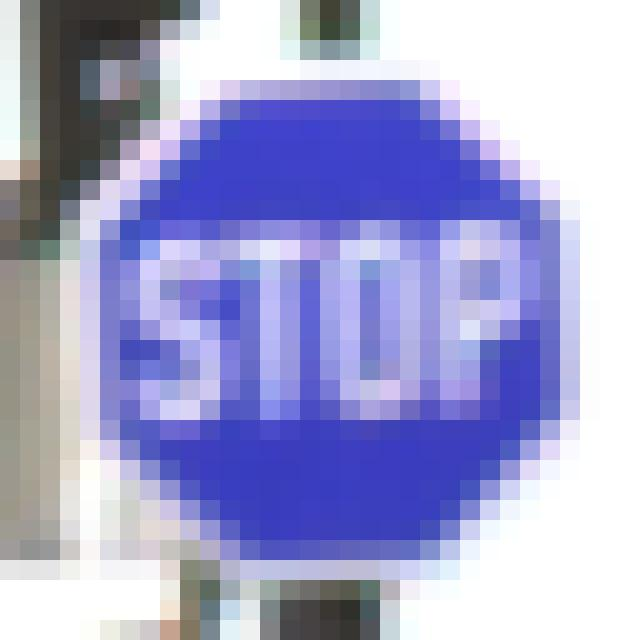STOP: (74, 68, 608, 583)
